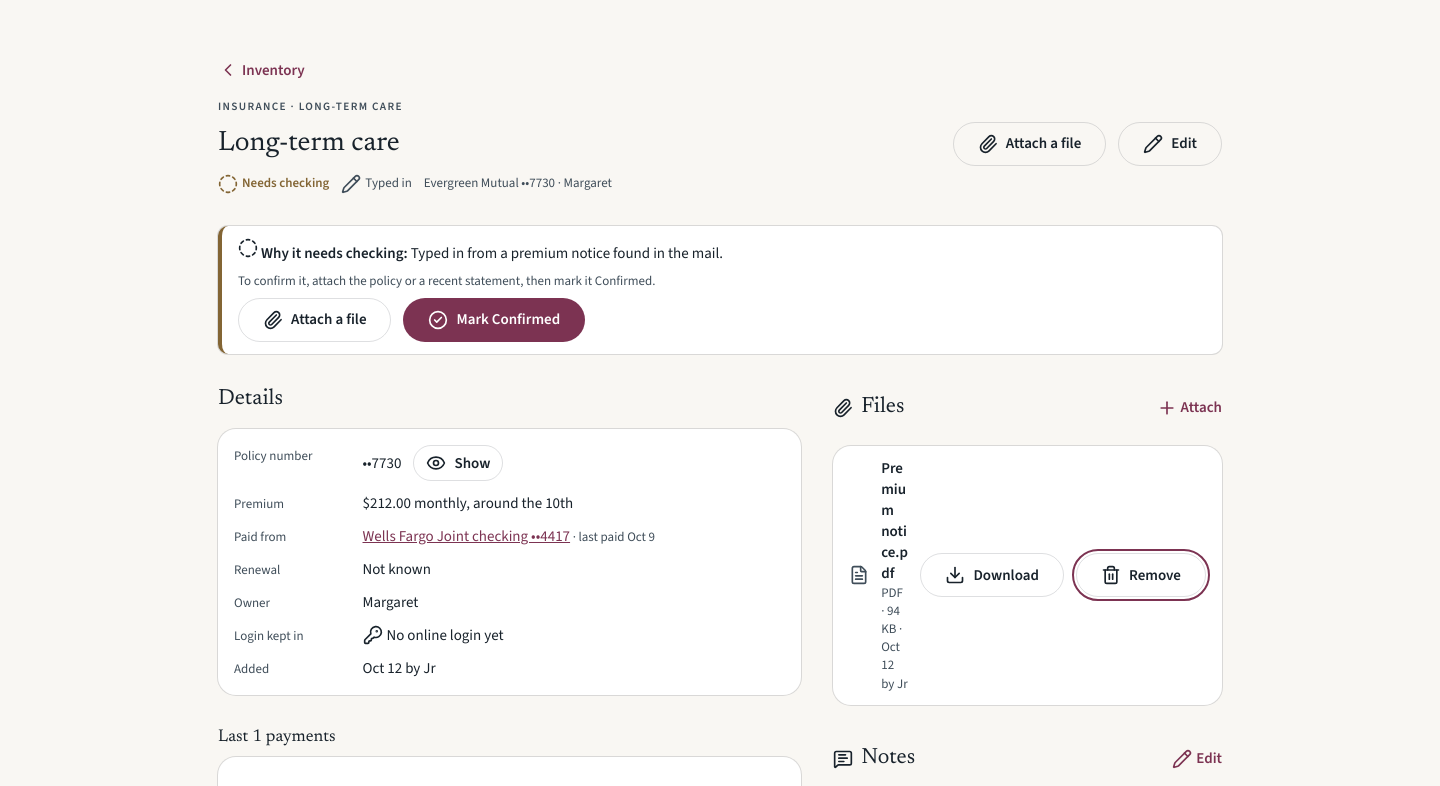
Scenario: Item page › after removing a file, says which and keeps focus on Files, not the gone row (THO-1)
The width and height of the screenshot is (1440, 786).
Click the button named "Remove Premium notice.pdf". click: (1141, 575)
box: [1076,553,1206,597]
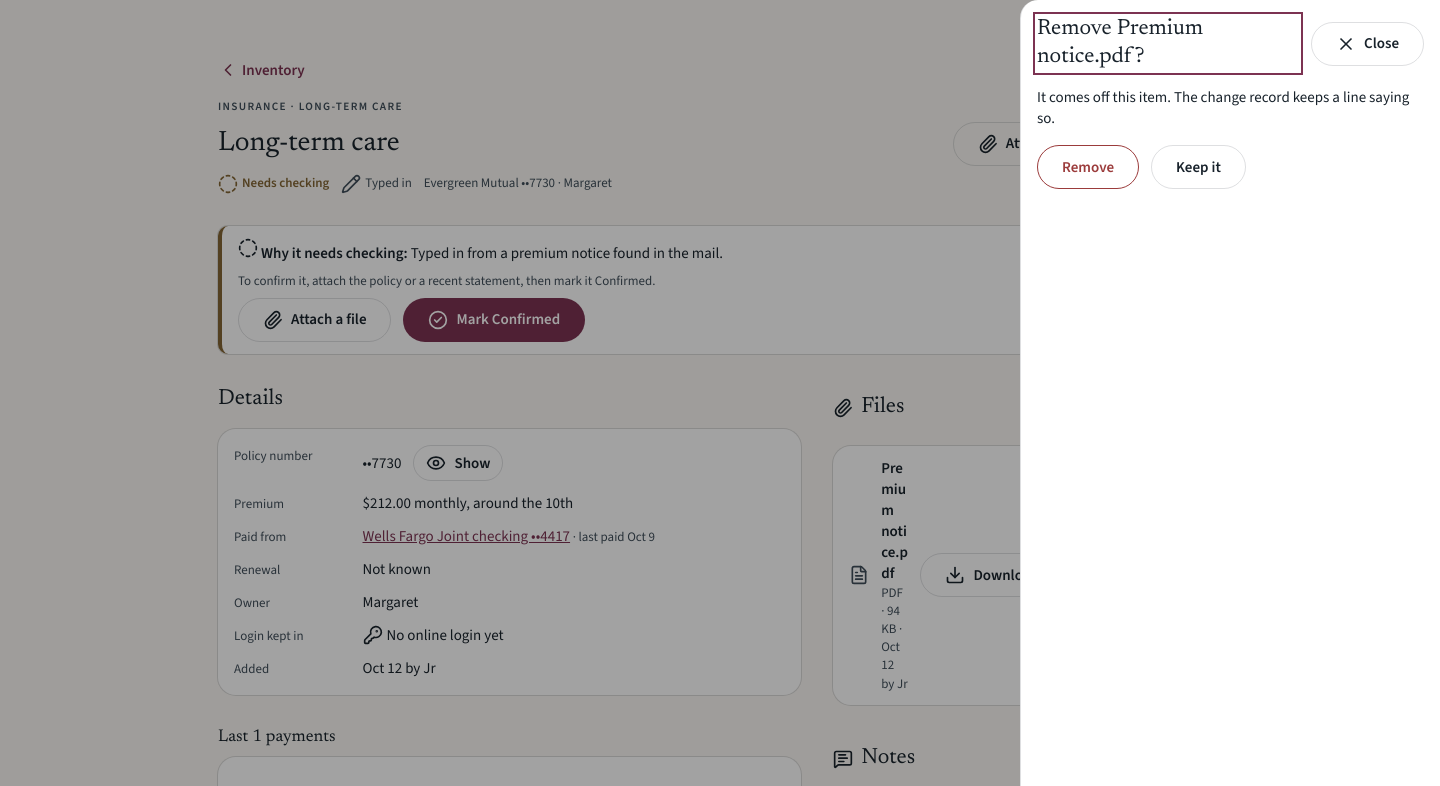
Click the button "Remove". click: (1088, 167)
box: [1037,145,1139,189]
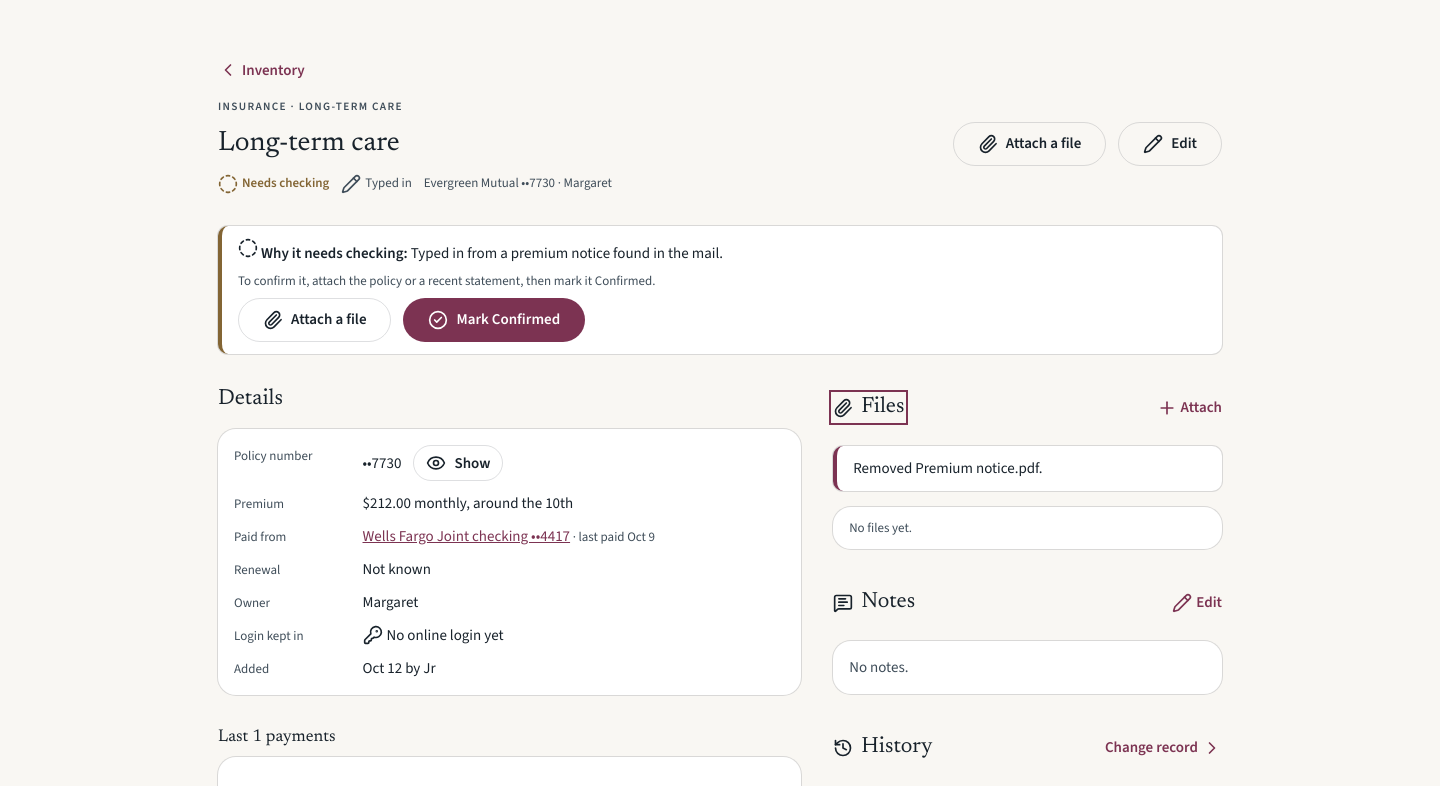
Now the text "Removed Premium notice.pdf." is shown, box [833,446,1222,491]
Now the text "No files yet." is shown, box [849,519,912,536]
